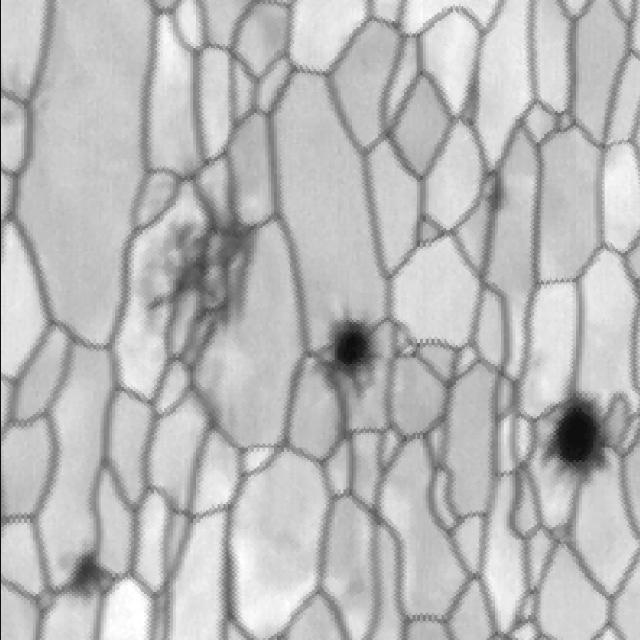good_void: (135, 191, 265, 390), (531, 366, 614, 500), (45, 542, 129, 611), (325, 303, 379, 391), (473, 140, 516, 237)
